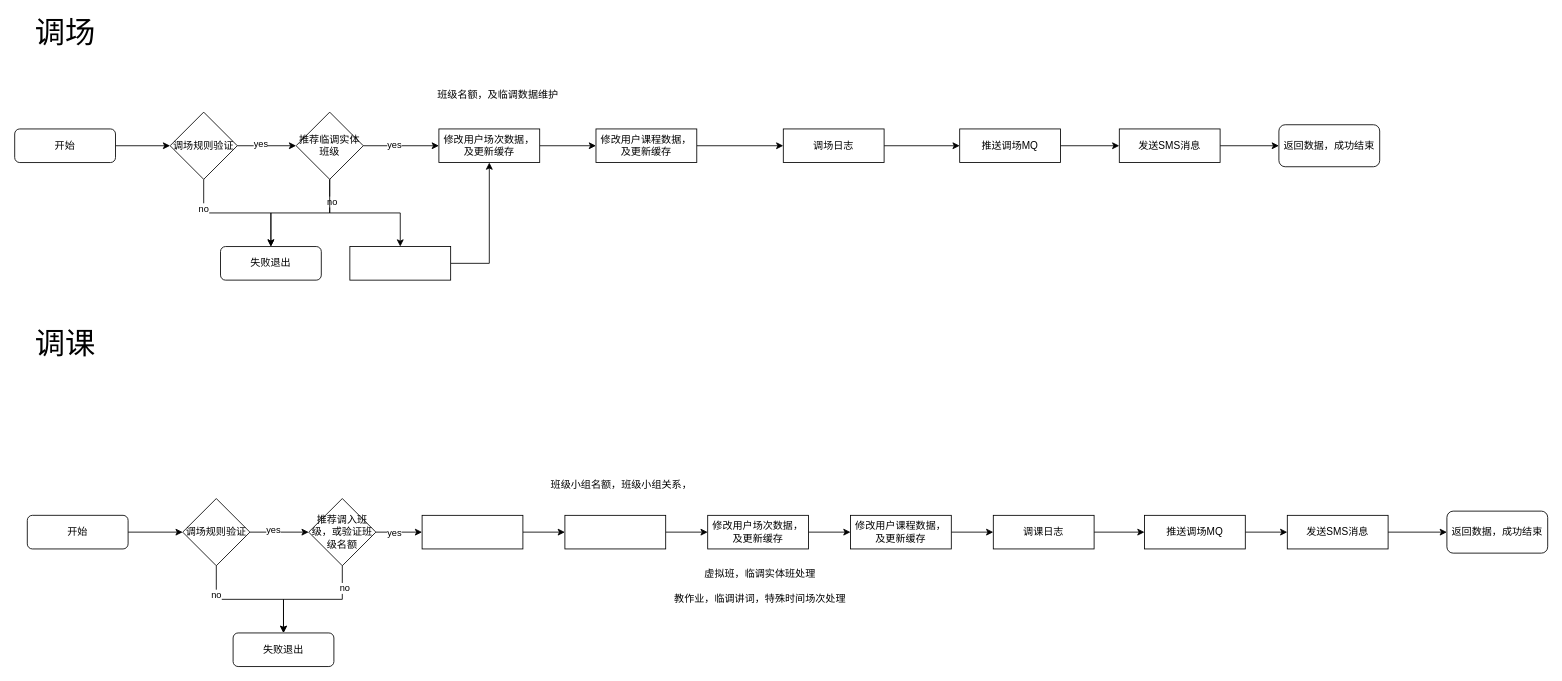
Image size: 1562x681. Some labels were removed from this diagram. Each missing label, with the centre of its shape:
修改用户班级数据，及更新缓存: point 615,531
推虚拟班: point 400,263
计算班级及小组: point 472,531
